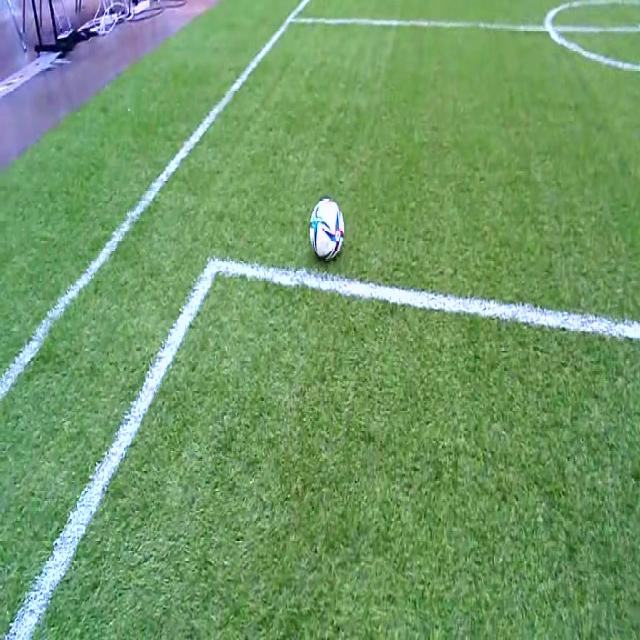ball: (310, 198, 344, 260)
